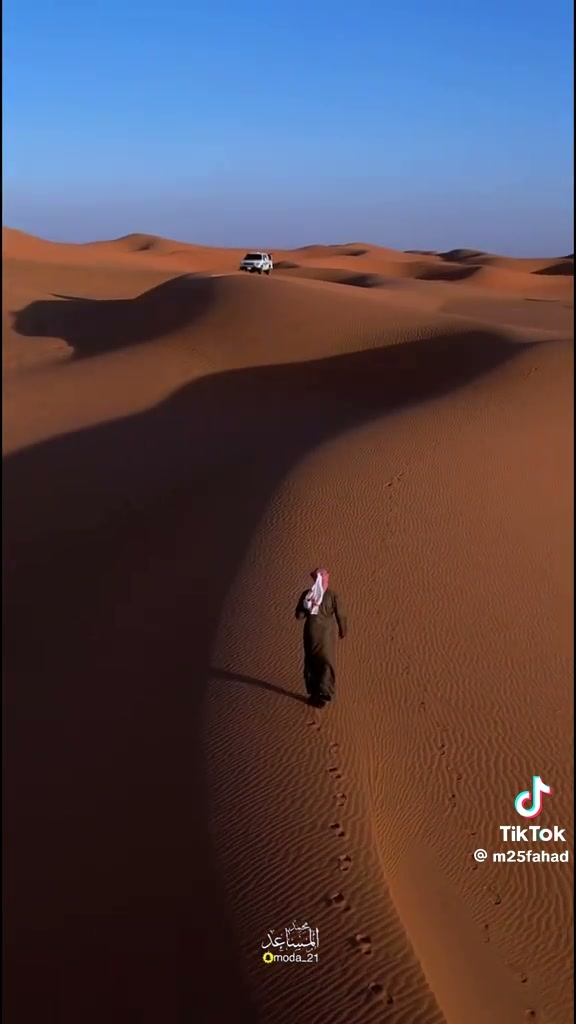human_footprint: (296, 569, 346, 706), (328, 883, 358, 915), (352, 932, 383, 960), (368, 988, 400, 1013), (338, 848, 363, 872), (328, 828, 358, 842), (328, 758, 354, 774), (340, 783, 358, 797)
